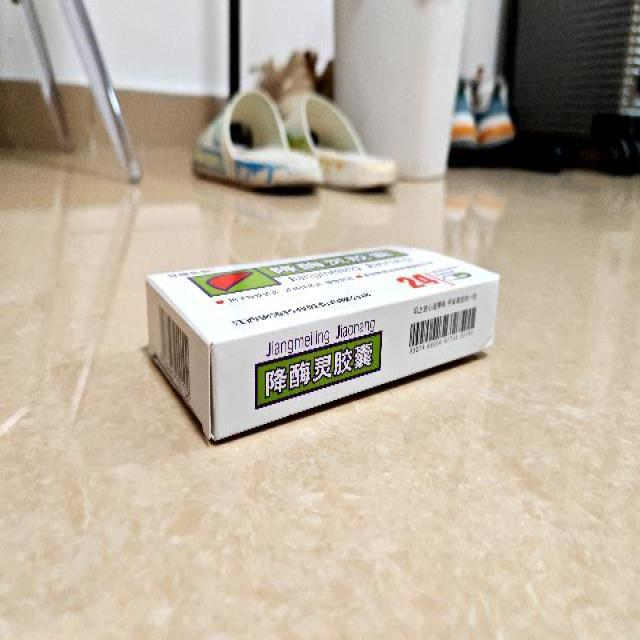box: (144, 243, 502, 442)
